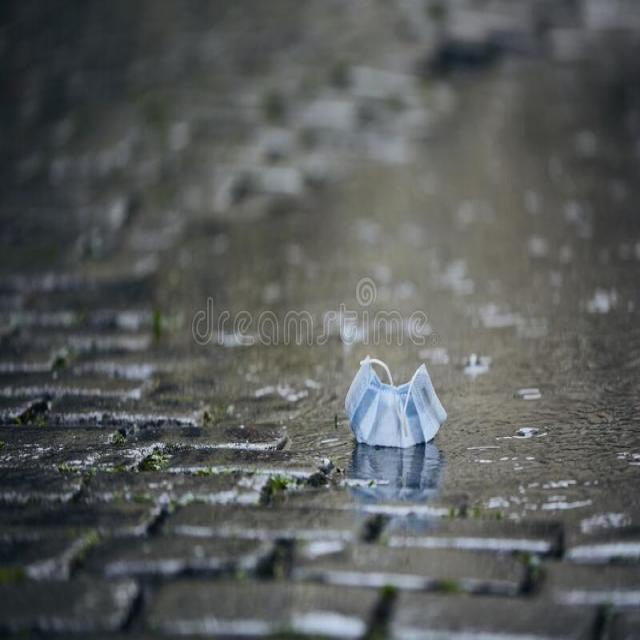face mask: (343, 352, 442, 455)
